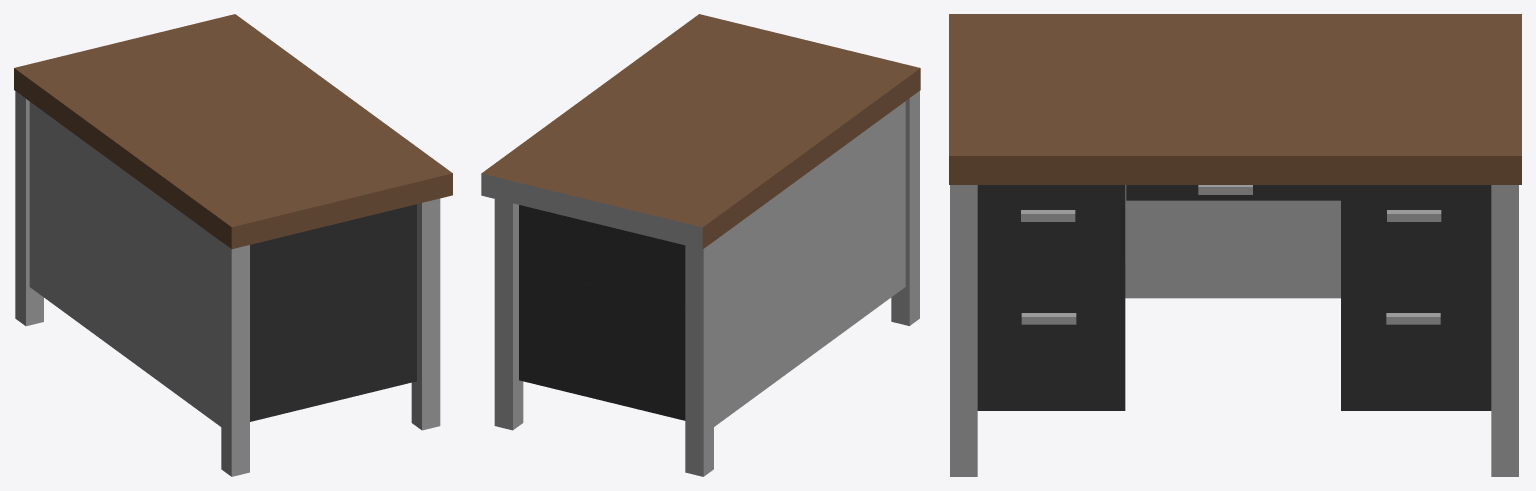
File: teacherdesk.fbx
3 views of the same model, side by side, from view 1: azimuth 30°, elevation 25°; view 2: azimuth 150°, elevation 25°; view 3: azimuth 270°, elevation 25° (orthographic). The views are drawn at different scales.
Parts seen in each view (by area): view 1: Cube; view 2: Cube; view 3: Cube.
Part boxes in pixels (box(x1,y1,x2,y2)): Cube: box(14, 14, 452, 476); Cube: box(481, 14, 920, 476); Cube: box(949, 14, 1521, 476).
Bounding box in the file's own units: 243 × 263 × 415.
